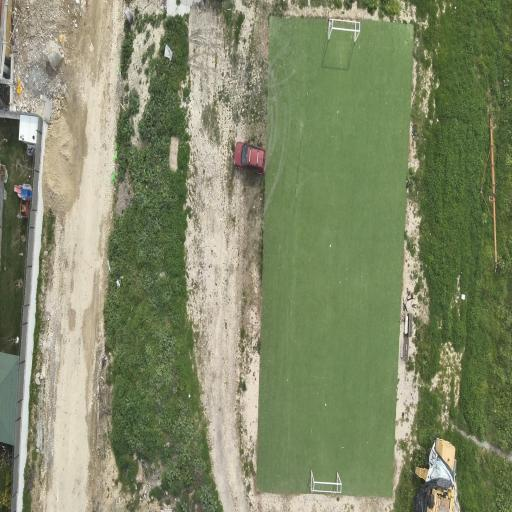car: (234, 142, 266, 174)
